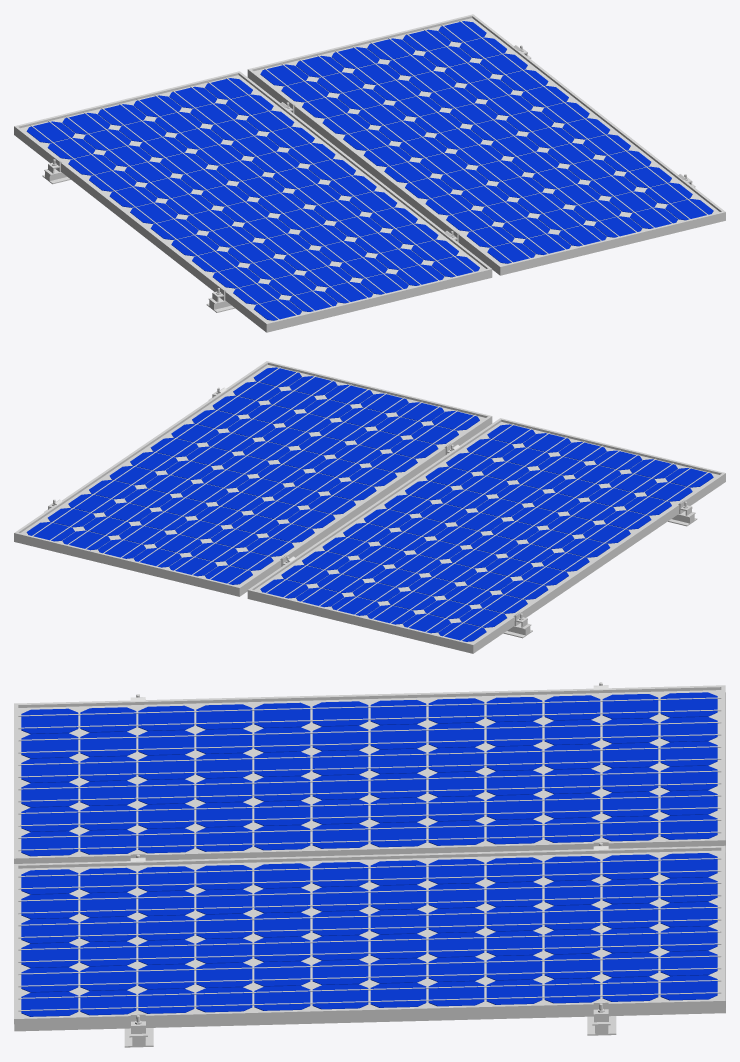
File: Panel.glb
The picture shows the model from 3 angles, top to bottom: view 1: azimuth 30°, elevation 25°; view 2: azimuth 150°, elevation 25°; view 3: azimuth 270°, elevation 25°; orthographic projection. The views are drawn at different scales.
Parts seen in each view (by area): view 1: 10781_Solar-Panels_V1; view 2: 10781_Solar-Panels_V1; view 3: 10781_Solar-Panels_V1.
Part boxes in pixels (bbox=[...]): 10781_Solar-Panels_V1: bbox=[14, 14, 725, 332]; 10781_Solar-Panels_V1: bbox=[14, 361, 725, 653]; 10781_Solar-Panels_V1: bbox=[14, 682, 725, 1047].
Bounding box in the file's own units: 21.55 × 1.2 × 19.63.
